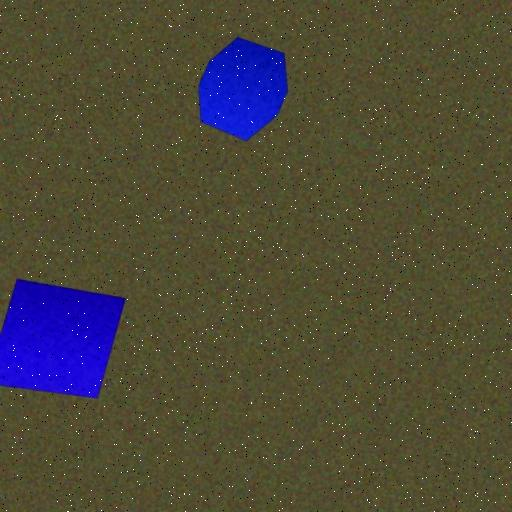BLUE_SQUARE: (0, 278, 126, 399)
